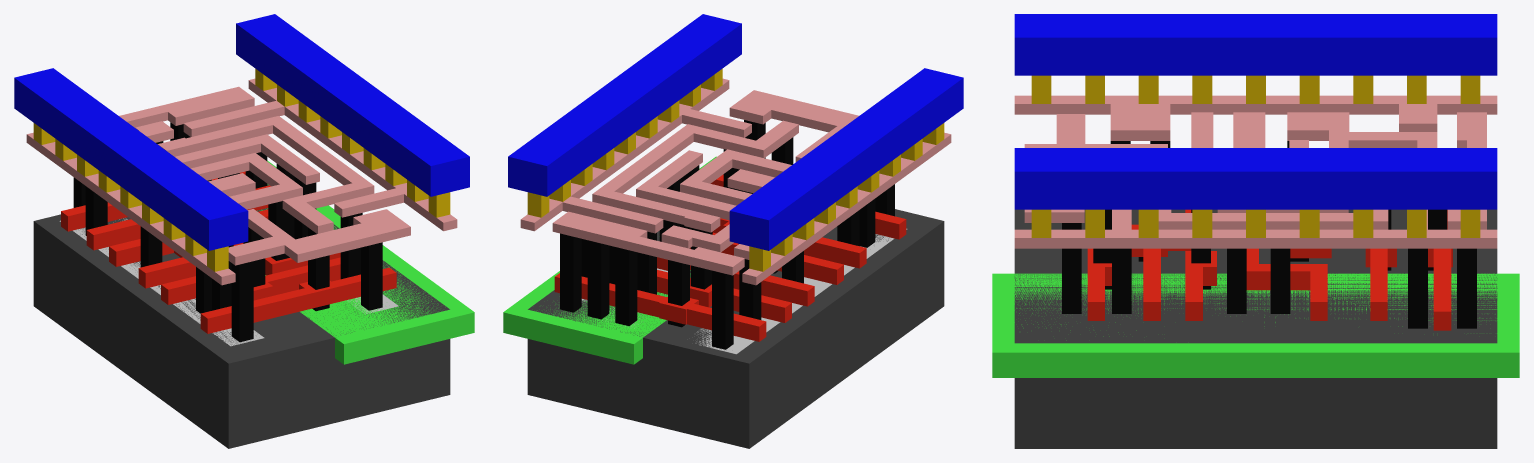
File: sky130_fd_sc_hd__mux2_1.obj
3 views of the same model, side by side, from view 1: azimuth 30°, elevation 25°; view 2: azimuth 150°, elevation 25°; view 3: azimuth 270°, elevation 25° (orthographic). The views are drawn at different scales.
Visible parts, largest first — view 1: subs, metal1, li, poly, licon, nwell, mcon, diff; view 2: subs, metal1, li, licon, poly, nwell, mcon, diff; view 3: subs, metal1, li, nwell, mcon, poly, licon.
Boxes of the visible parts, left/top/right/bottom form: subs: left=33, top=184, right=450, bottom=448; metal1: left=14, top=14, right=469, bottom=250; li: left=26, top=78, right=457, bottom=285; poly: left=61, top=171, right=396, bottom=333; licon: left=73, top=122, right=382, bottom=342; nwell: left=257, top=160, right=474, bottom=364; mcon: left=33, top=68, right=450, bottom=271; diff: left=59, top=218, right=264, bottom=346; subs: left=527, top=209, right=944, bottom=448; metal1: left=508, top=14, right=963, bottom=250; li: left=520, top=78, right=951, bottom=285; licon: left=560, top=120, right=894, bottom=349; poly: left=554, top=174, right=906, bottom=341; nwell: left=503, top=156, right=716, bottom=364; mcon: left=527, top=68, right=944, bottom=271; diff: left=695, top=228, right=907, bottom=354; subs: left=1014, top=209, right=1497, bottom=448; metal1: left=1014, top=14, right=1497, bottom=209; li: left=1014, top=95, right=1497, bottom=248; nwell: left=992, top=273, right=1519, bottom=377; mcon: left=1031, top=75, right=1480, bottom=237; poly: left=1087, top=209, right=1452, bottom=330; licon: left=1062, top=141, right=1476, bottom=328.
Size of the model in its own units: 3.2 by 2.74 by 4.52.
